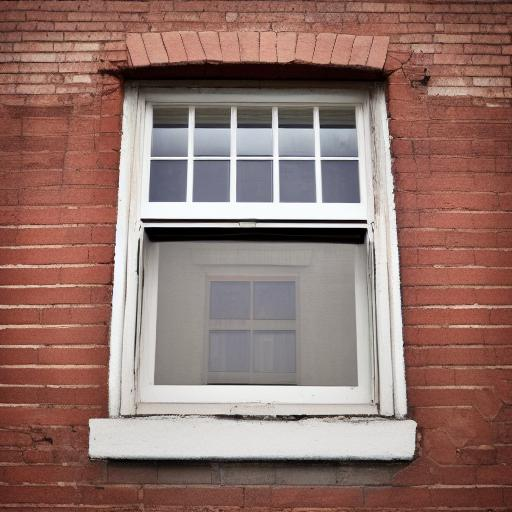Window: (88, 33, 427, 463)
